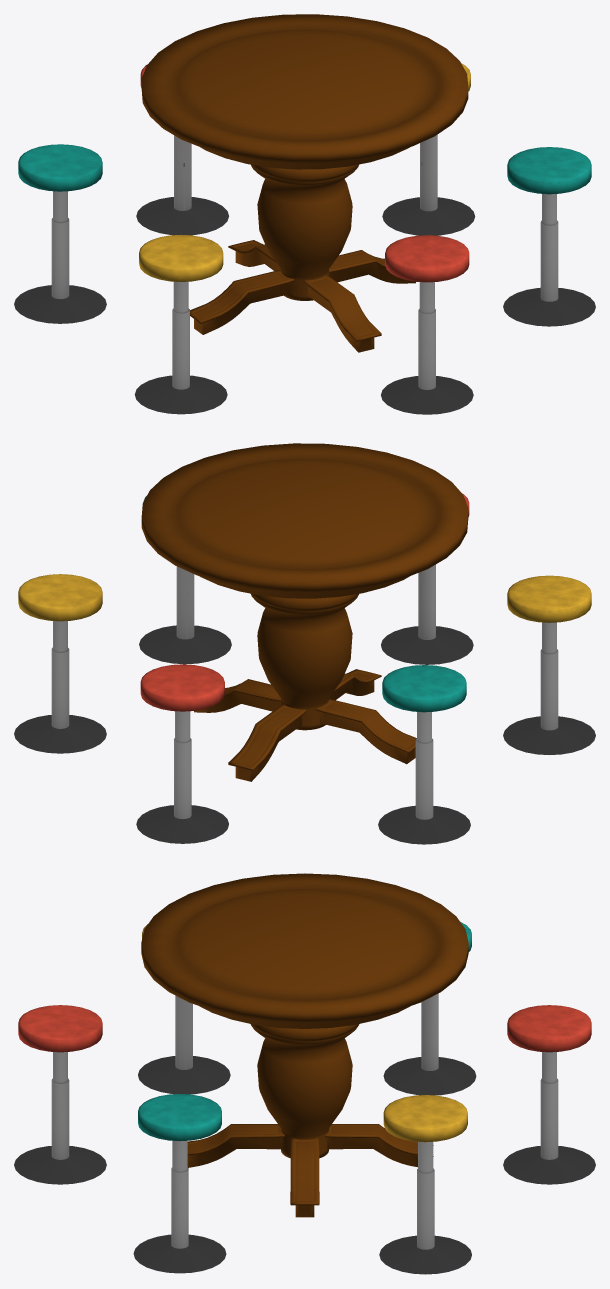
The model's file is roundtable.glb.
The picture shows the model from 3 angles, top to bottom: view 1: azimuth 30°, elevation 25°; view 2: azimuth 150°, elevation 25°; view 3: azimuth 270°, elevation 25°; orthographic projection.
Parts seen in each view (by area): view 1: Table, Stool.005, Stool.004, Stool.001, Stool.003, Stool.002, Stool; view 2: Table, Stool.003, Stool.002, Stool.005, Stool, Stool.001, Stool.004; view 3: Table, Stool, Stool.001, Stool.002, Stool.004, Stool.005, Stool.003.
Part boxes in pixels (bbox=[...]): Table: bbox=[141, 14, 468, 352]; Stool.005: bbox=[14, 144, 106, 323]; Stool.004: bbox=[503, 147, 595, 326]; Stool.001: bbox=[381, 235, 473, 414]; Stool.003: bbox=[134, 234, 227, 414]; Stool.002: bbox=[382, 63, 475, 235]; Stool: bbox=[136, 64, 228, 235]; Table: bbox=[141, 443, 468, 781]; Stool.003: bbox=[503, 575, 595, 754]; Stool.002: bbox=[14, 574, 106, 753]; Stool.005: bbox=[378, 665, 470, 844]; Stool: bbox=[136, 664, 228, 843]; Stool.001: bbox=[381, 493, 473, 664]; Stool.004: bbox=[139, 496, 231, 664]; Table: bbox=[141, 873, 468, 1217]; Stool: bbox=[503, 1005, 595, 1184]; Stool.001: bbox=[14, 1005, 106, 1184]; Stool.002: bbox=[379, 1095, 471, 1274]; Stool.004: bbox=[133, 1094, 226, 1273]; Stool.005: bbox=[383, 922, 476, 1095]; Stool.003: bbox=[138, 924, 230, 1094].
Size of the model in its own units: 4.23 by 2.01 by 4.75.
Materials: 5 (5 with a texture image).
